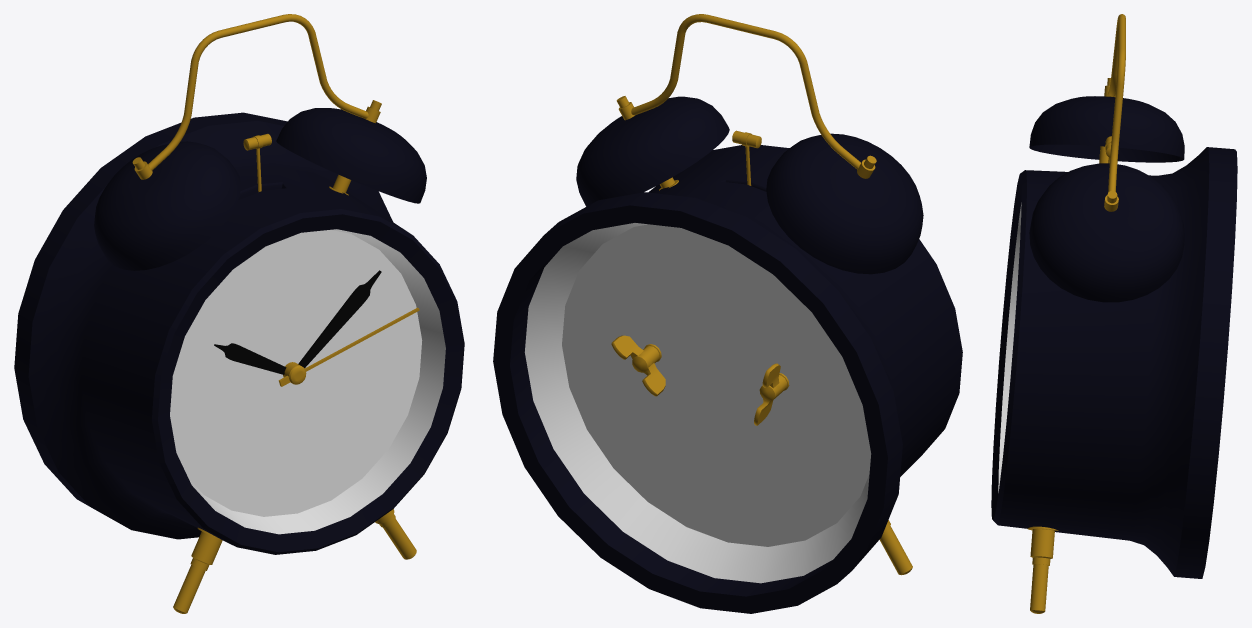
The model's file is AlarmClock.FBX.
The picture shows the model from 3 angles, left to right: view 1: azimuth 30°, elevation 25°; view 2: azimuth 150°, elevation 25°; view 3: azimuth 270°, elevation 25°; orthographic projection. The views are drawn at different scales.
Visible parts, largest first — view 1: AlarmClock; view 2: AlarmClock; view 3: AlarmClock.
Part boxes in pixels (left/top/right/bottom): AlarmClock: left=14, top=14, right=464, bottom=613; AlarmClock: left=493, top=14, right=962, bottom=613; AlarmClock: left=991, top=14, right=1237, bottom=613.
Bounding box in the file's own units: 13.4 × 18 × 7.62.
